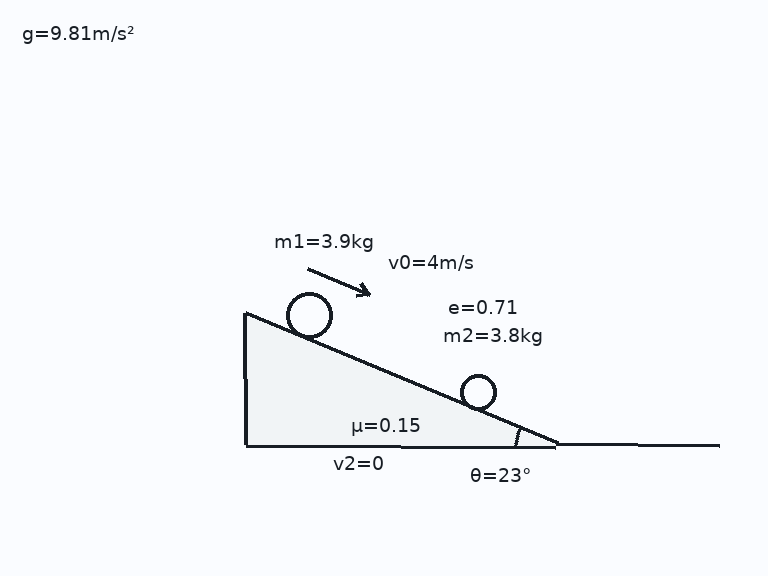ball: (284, 290, 334, 340), (458, 372, 498, 412)
ramp: (243, 311, 558, 447)
